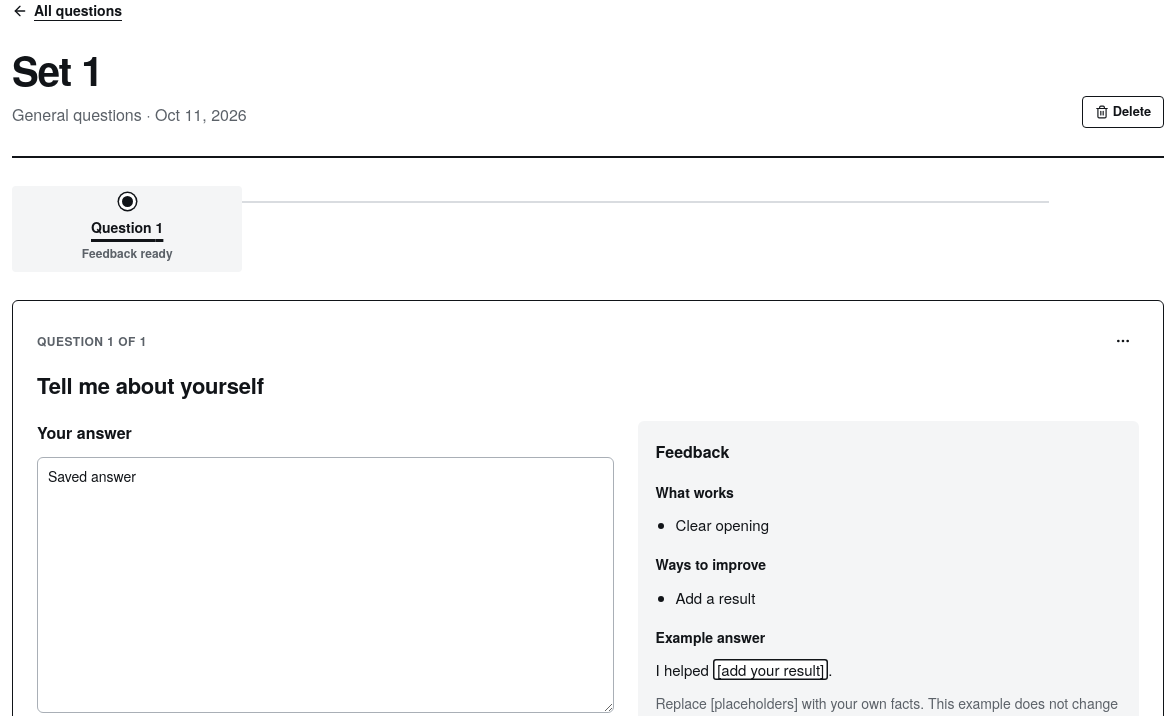
Test: saves the submitted snapshot while preserving edits typed during saving
This screenshot has width=1176, height=716.
Replace the text in the text box labelled "Your answer" with "Submitted answer" at coordinates (325, 585), box [37,457,614,713]
(page scrolled)
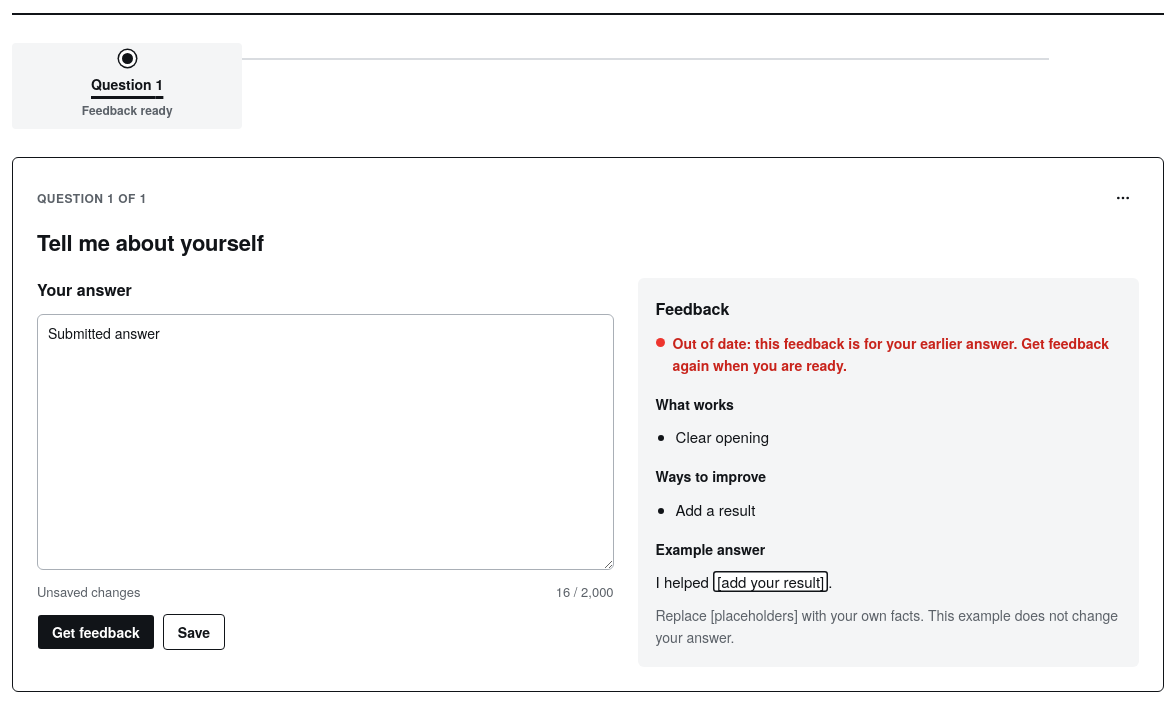
Click the button "Save" at coordinates (194, 632), box [163,614,225,650]
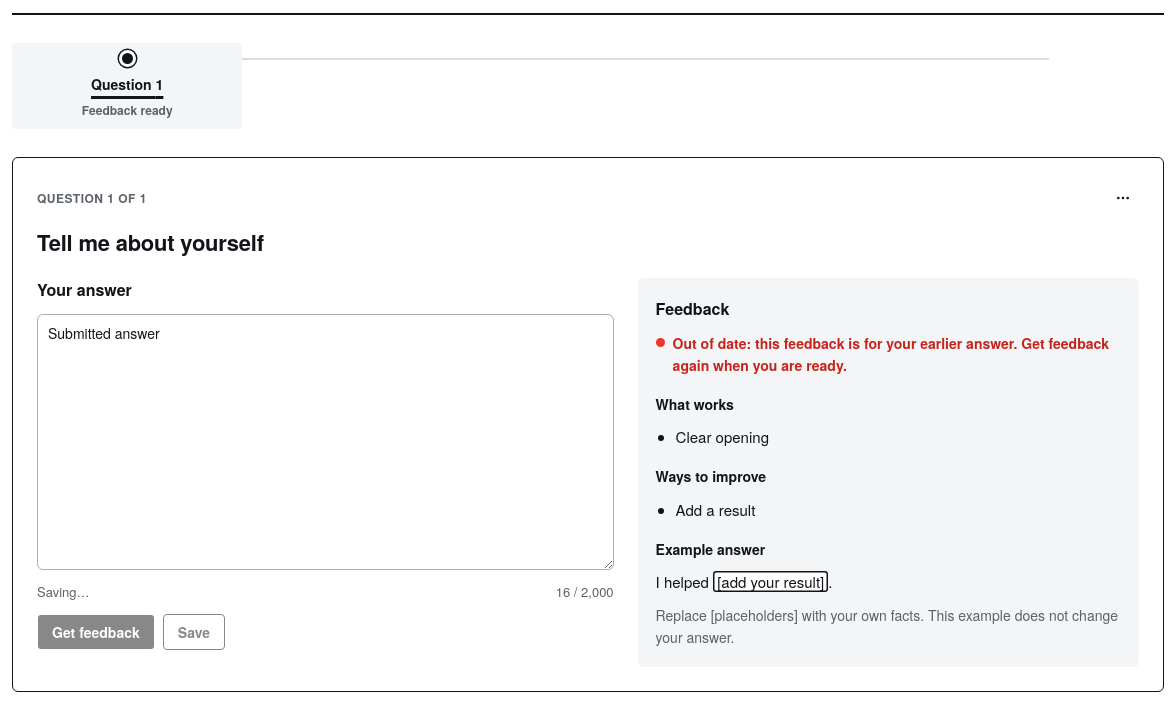
Now the text "Saving…" is shown, box [37,582,90,602]
Replace the text in the text box labelled "Your answer" with "Newer draft" at coordinates (325, 442), box [37,314,614,570]
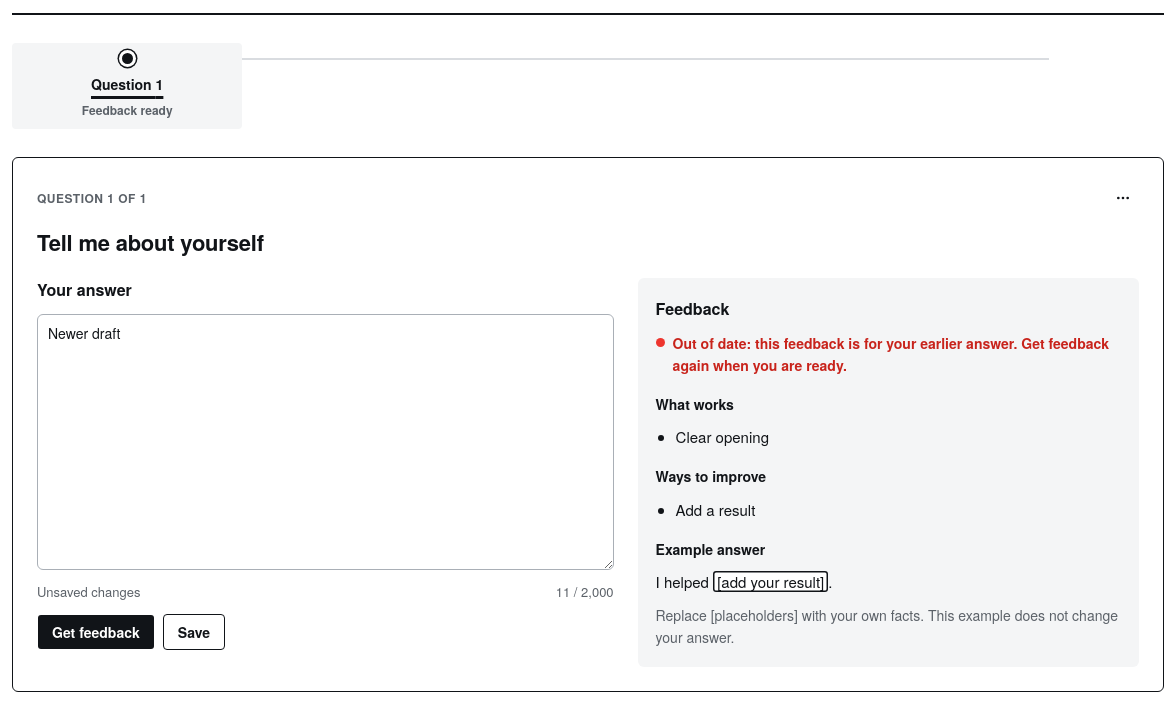
Now the button "Save" is enabled, box [163,614,225,650]
Now the text "Unsaved changes" is shown, box [37,582,140,602]
